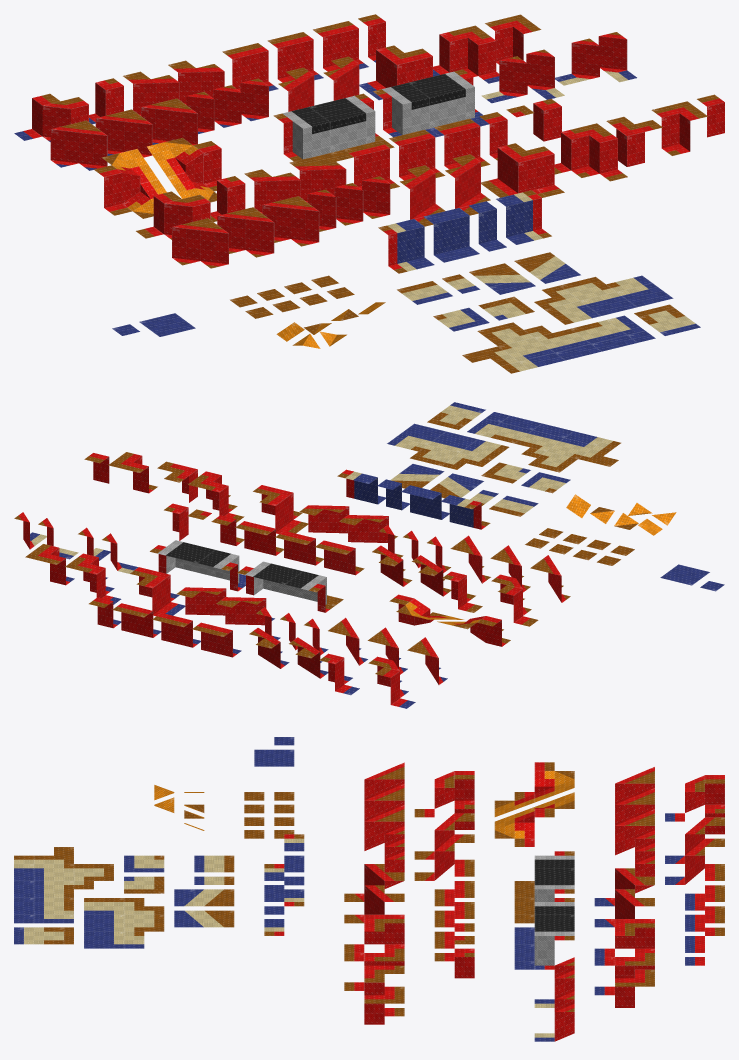
The model's file is placeholder_terrain01.gltf.
3 renders of one model, top to bottom at view 1: azimuth 30°, elevation 25°; view 2: azimuth 150°, elevation 25°; view 3: azimuth 270°, elevation 25°, orthographic. The views are drawn at different scales.
Visible parts, largest first — view 1: shore08, ovrps01, ovrps02, shore07, ramp02, ramp01, cliff18, cliff19, wcliff19, wcliff09, cliff09, wcliff18 (+50 smaller); view 2: shore08, shore07, ovrps01, ovrps02, cliff18, wcliff18, wcliff16, wcliff17, cliff16, cliff17, cliff19, wcliff19 (+40 smaller); view 3: shore08, shore07, ovrps02, ovrps01, ramp01, ramp02, cliff18, wcliff18, cliff01, wcliff01, shore03, shore04 (+36 smaller).
Boxes of the visible parts, left/top/right/bottom form: shore08: left=462, top=315, right=655, bottom=373; ovrps01: left=273, top=93, right=394, bottom=165; ovrps02: left=373, top=69, right=489, bottom=137; shore07: left=534, top=275, right=673, bottom=324; ramp02: left=147, top=137, right=221, bottom=202; ramp01: left=94, top=149, right=166, bottom=218; cliff18: left=481, top=143, right=564, bottom=197; cliff19: left=554, top=123, right=627, bottom=181; wcliff19: left=433, top=25, right=499, bottom=83; wcliff09: left=50, top=120, right=107, bottom=170; cliff09: left=172, top=218, right=228, bottom=268; wcliff18: left=359, top=45, right=432, bottom=100; shore08: left=467, top=412, right=620, bottom=472; shore07: left=387, top=423, right=509, bottom=469; ovrps01: left=237, top=561, right=343, bottom=612; ovrps02: left=150, top=540, right=245, bottom=591; cliff18: left=253, top=485, right=308, bottom=533; wcliff18: left=130, top=567, right=185, bottom=616; wcliff16: left=216, top=597, right=274, bottom=625; wcliff17: left=176, top=587, right=226, bottom=615; cliff16: left=339, top=515, right=397, bottom=542; cliff17: left=299, top=505, right=349, bottom=533; cliff19: left=188, top=471, right=244, bottom=522; wcliff19: left=65, top=553, right=121, bottom=604; shore08: left=14, top=847, right=113, bottom=923; shore07: left=84, top=898, right=164, bottom=948; ovrps02: left=514, top=898, right=574, bottom=969; ovrps01: left=514, top=851, right=574, bottom=923; ramp01: left=494, top=762, right=574, bottom=816; ramp02: left=494, top=792, right=574, bottom=846; cliff18: left=344, top=914, right=404, bottom=961; wcliff18: left=594, top=919, right=654, bottom=965; cliff01: left=414, top=771, right=474, bottom=817; wcliff01: left=665, top=775, right=724, bottom=821; shore03: left=174, top=889, right=234, bottom=906; shore04: left=174, top=910, right=234, bottom=927.
Size of the model in its own units: 73 by 3.26 by 71.
7 materials, 7 textured.
